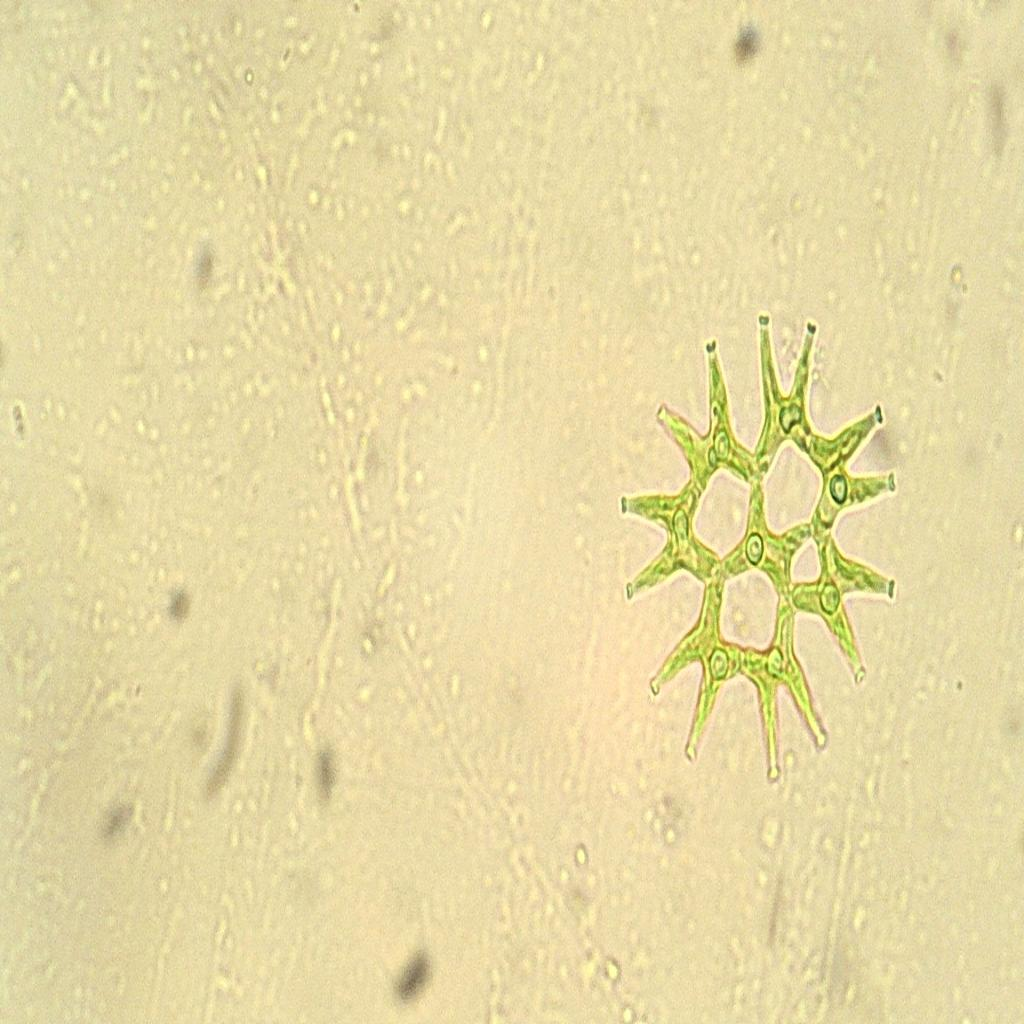Pediastrum_CTH: (614, 296, 901, 790)
